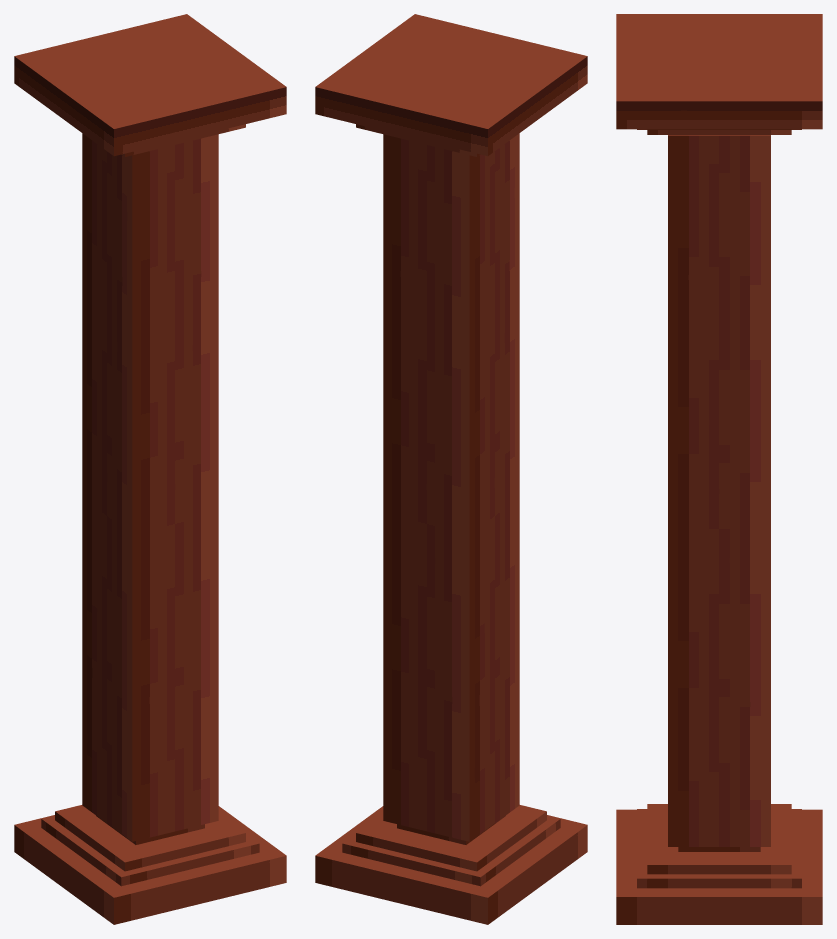
File: globe_pillarao.fezao.glb
The picture shows the model from 3 angles, left to right: view 1: azimuth 30°, elevation 25°; view 2: azimuth 150°, elevation 25°; view 3: azimuth 270°, elevation 25°; orthographic projection. The views are drawn at different scales.
Parts seen in each view (by area): view 1: GLOBE_PILLARAO; view 2: GLOBE_PILLARAO; view 3: GLOBE_PILLARAO.
Part boxes in pixels (<box>): GLOBE_PILLARAO: <box>14,14,286,924</box>; GLOBE_PILLARAO: <box>315,14,587,924</box>; GLOBE_PILLARAO: <box>616,14,822,924</box>.
Size of the model in its own units: 1.25 by 5.5 by 1.25.
Materials: 1 (1 with a texture image).
